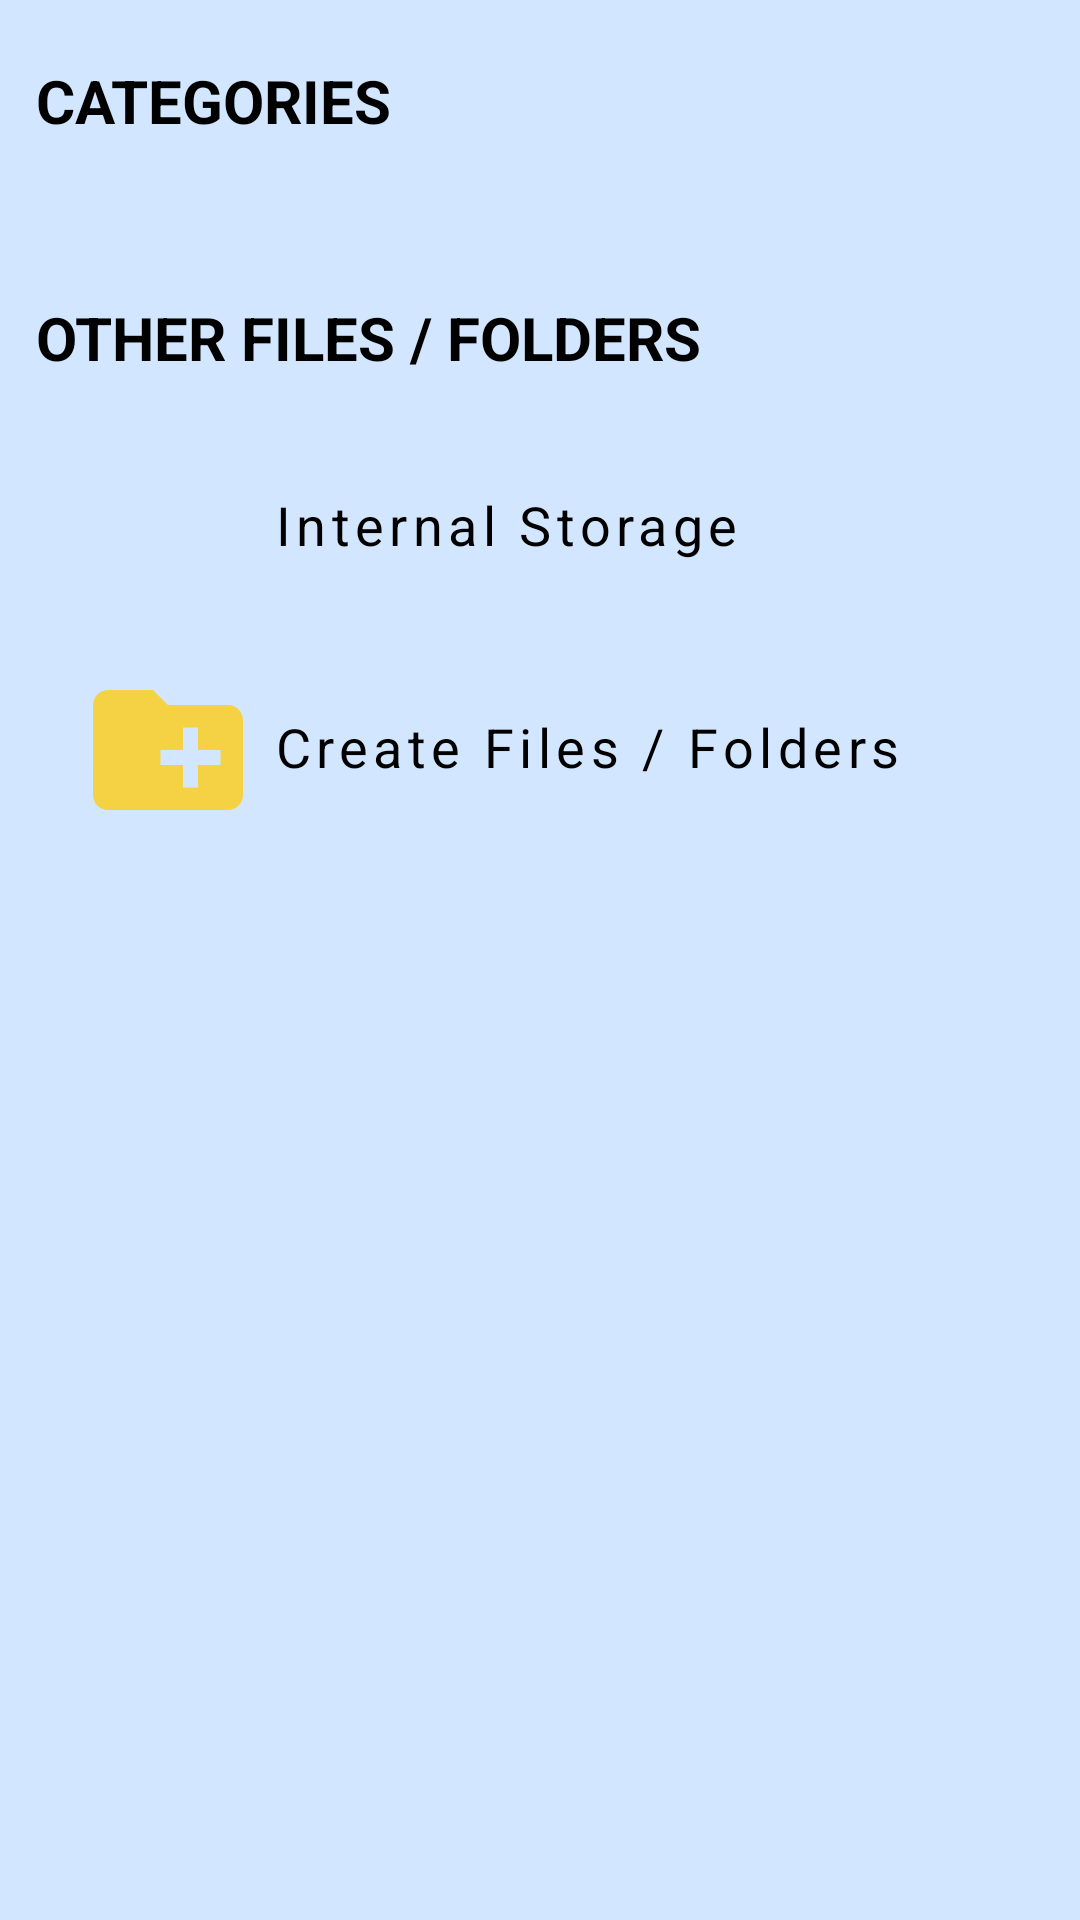

Point at icon controls on the screen. Image size 1080px x 1920px, points as (x=x, y=y).
folder create: (x=168, y=750)
